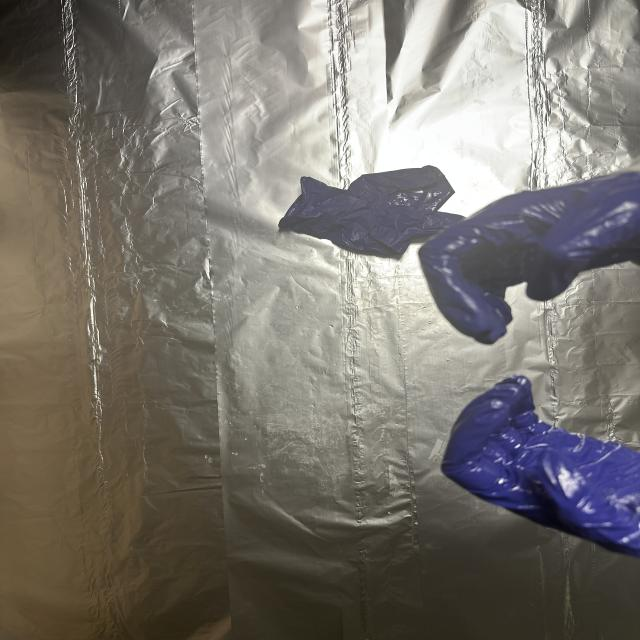gloves_contaminated: (419, 163, 640, 344), (442, 376, 640, 557)
